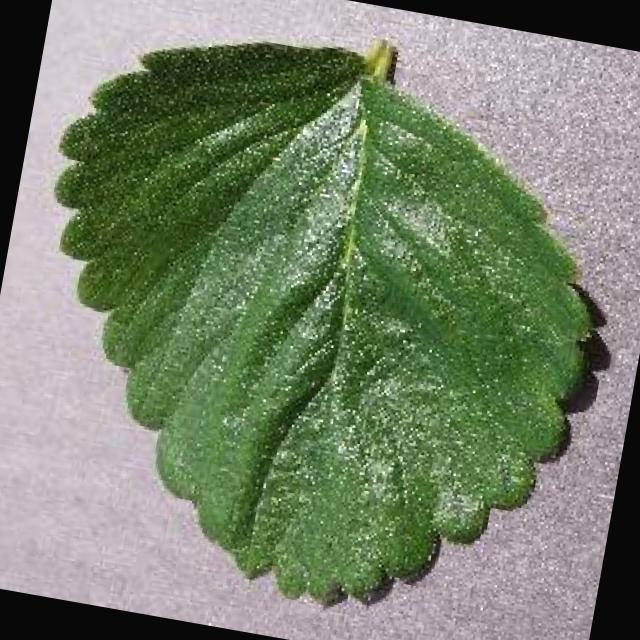healthy: (63, 46, 592, 603)
